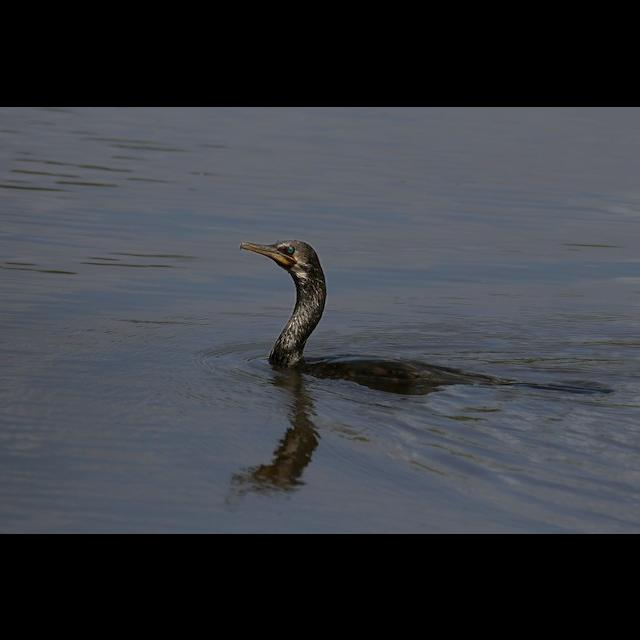cormorant: (236, 230, 614, 402)
